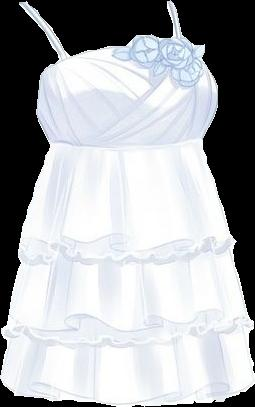Bodice: (1, 0, 254, 405)
Neckline: (23, 0, 176, 60), (67, 38, 178, 89), (49, 132, 201, 150)
Waistline: (0, 376, 254, 404), (6, 306, 250, 334), (18, 233, 234, 256)
